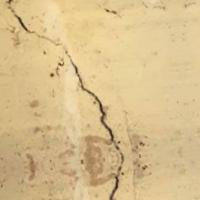crack: (8, 7, 158, 199)
